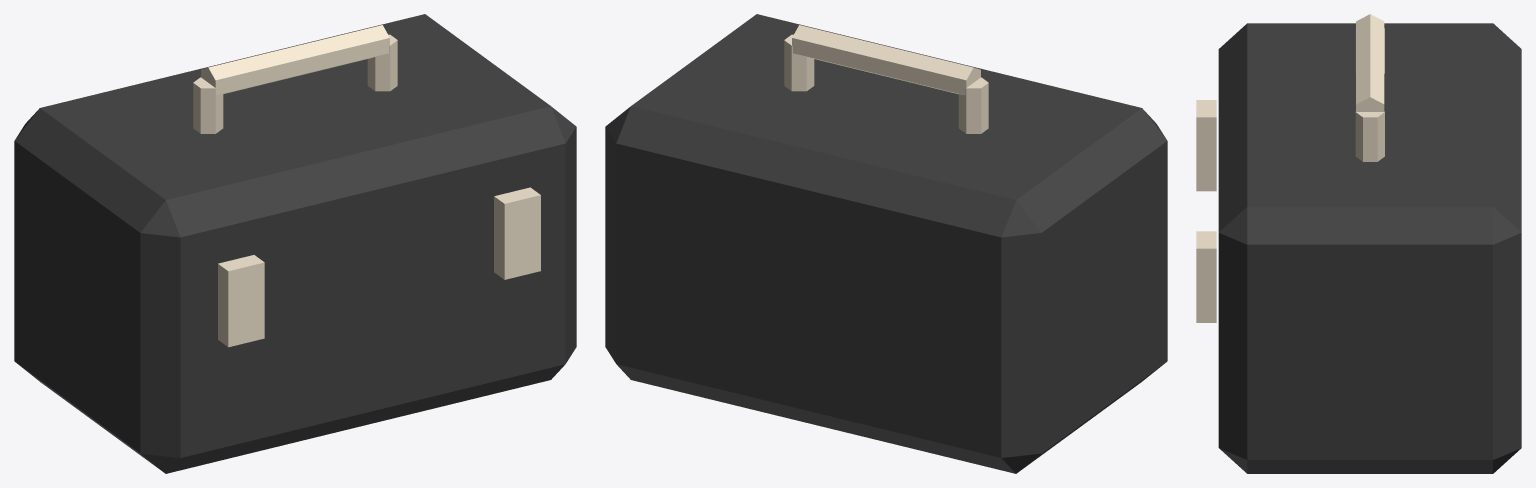
3 views of the same model, side by side, from view 1: azimuth 30°, elevation 25°; view 2: azimuth 150°, elevation 25°; view 3: azimuth 270°, elevation 25° (orthographic). The views are drawn at different scales.
Parts seen in each view (by area): view 1: Case, Handle, Buckle.001, Buckle, Handle post, Handle post.001; view 2: Case, Handle, Handle post, Handle post.001; view 3: Case, Handle, Buckle, Buckle.001, Handle post.001.
Part boxes in pixels (x1=…): Case: x1=14, y1=14, x2=576, y2=473; Handle: x1=201, y1=25, x2=389, y2=95; Buckle.001: x1=494, y1=187, x2=540, y2=279; Buckle: x1=218, y1=255, x2=264, y2=347; Handle post: x1=193, y1=77, x2=223, y2=133; Handle post.001: x1=367, y1=34, x2=397, y2=91; Case: x1=605, y1=14, x2=1167, y2=473; Handle: x1=792, y1=25, x2=980, y2=95; Handle post: x1=958, y1=77, x2=988, y2=133; Handle post.001: x1=784, y1=34, x2=814, y2=91; Case: x1=1218, y1=23, x2=1521, y2=473; Handle: x1=1356, y1=14, x2=1384, y2=111; Buckle: x1=1196, y1=100, x2=1216, y2=191; Buckle.001: x1=1196, y1=231, x2=1216, y2=322; Handle post.001: x1=1355, y1=111, x2=1384, y2=161.
Size of the model in its own units: 0.6 by 0.44 by 0.3975.
1 material, 1 textured.
